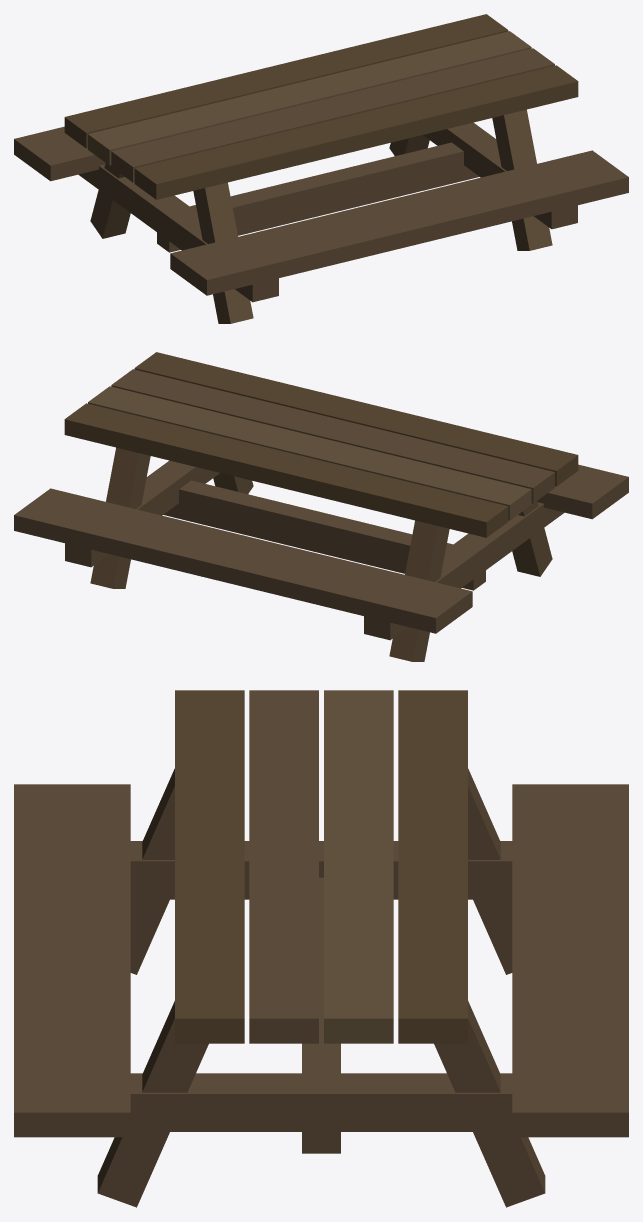
Rendered from rasteplass_table.glb.
3 renders of one model, top to bottom at view 1: azimuth 30°, elevation 25°; view 2: azimuth 150°, elevation 25°; view 3: azimuth 270°, elevation 25°, orthographic. The views are drawn at different scales.
Visible parts, largest first — view 1: table; view 2: table; view 3: table.
Part boxes in pixels (x1,y1,x2,y2): table: [14, 14, 628, 323]; table: [14, 352, 628, 661]; table: [14, 690, 628, 1207].
Size of the model in its own units: 2.4 by 0.7771 by 1.9.
